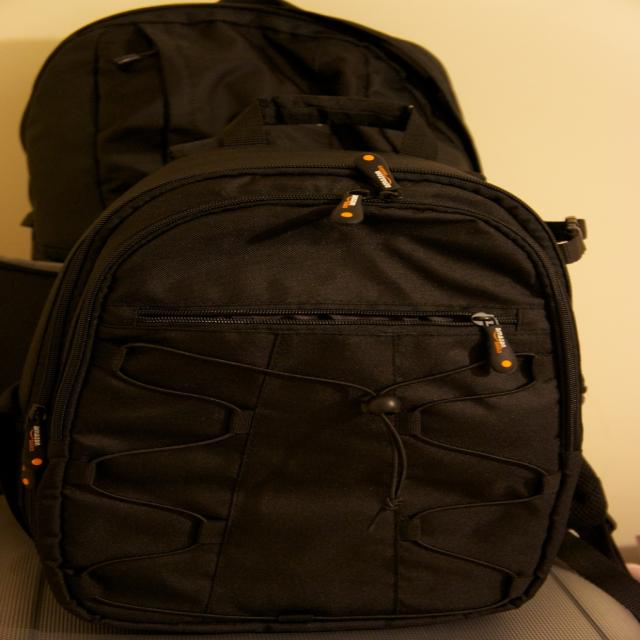backpack: (11, 96, 588, 640), (14, 2, 490, 245)
